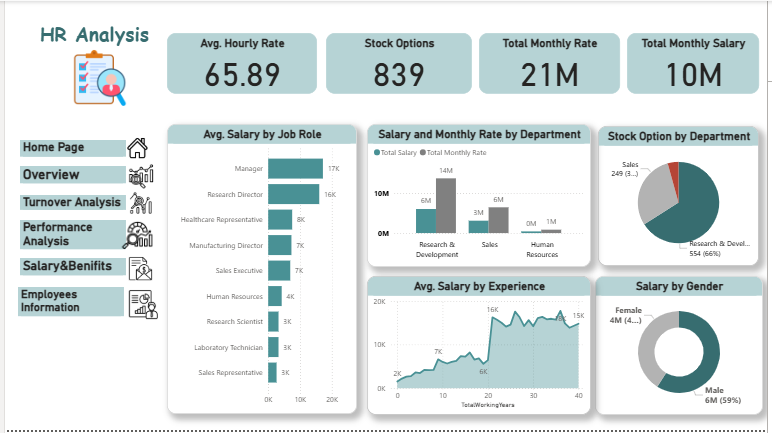

The page's visual inventory and layout, read from the dashboard file:
{"tool":"powerbi","page":{"name":"Salaries& Benifits","canvas":[1280,720],"ordinal":4},"visuals":[{"type":"card","title":"Total Monthly Rate","fields":{"Values":["Sum(Project-DEPI.MonthlyRate)"]},"box":[796.2,53.8,236.9,102.5],"z":0},{"type":"textbox","title":"Home Page","box":[25.2,233.5,178.1,28.6],"z":0,"group":"g1"},{"type":"image","box":[199.9,480.4,65.5,58.8],"z":0,"group":"g2"},{"type":"card","title":"Total Monthly Salary","fields":{"Values":["Sum(Project-DEPI.MonthlyIncome)"]},"box":[1044.8,53.8,221.7,102.5],"z":1000},{"type":"group","id":"g1","title":"Group 1","box":[21.8,225.1,250.3,307.4],"z":1000,"group":"g2"},{"type":"textbox","title":"Overview","box":[25.2,277.2,178.1,28.6],"z":1000,"group":"g1"},{"type":"clusteredColumnChart","title":"Salary and Monthly Rate by Department","fields":{"Category":["Project-DEPI.Department"],"Y":["Sum(Project-DEPI.MonthlyIncome)","Sum(Project-DEPI.MonthlyRate)"]},"box":[608.1,206.6,376.3,240.2],"z":2000},{"type":"textbox","title":"Turnover Analysis","box":[25.2,325.9,178.1,25.2],"z":2000,"group":"g1"},{"type":"card","title":"Avg. Hourly Rate","fields":{"Values":["Avg(Project-DEPI.HourlyRate)"]},"box":[272.1,53.8,252,102.5],"z":3000},{"type":"textbox","title":"Performance Analysis","box":[25.2,367.9,178.1,48.7],"z":3000,"group":"g1"},{"type":"pieChart","title":" Stock Option by Department","fields":{"Category":["Project-DEPI.Department"],"Y":["CountNonNull(Project-DEPI.StockOptionLevel)"]},"box":[996.1,210,270.4,235.2],"z":4000},{"type":"textbox","title":"Salary&Benifits","box":[25.2,431.7,178.1,30.2],"z":4000,"group":"g1"},{"type":"card","title":"Stock Options","fields":{"Values":["CountNonNull(Project-DEPI.StockOptionLevel)"]},"box":[539.2,53.8,245.2,102.5],"z":5000},{"type":"textbox","title":"Employees Information","box":[21.8,480.4,178.1,52.1],"z":5000,"group":"g1"},{"type":"textbox","title":"HR Analysis","box":[28.6,31.9,243.6,53.8],"z":6000,"group":"g3"},{"type":"clusteredBarChart","title":"Avg. Salary by Job Role","fields":{"Category":["Project-DEPI.JobRole"],"Y":["Avg(Project-DEPI.MonthlyIncome)"]},"box":[272.1,206.6,319.2,487.1],"z":6000},{"type":"image","box":[186.4,225.1,72.2,43.7],"z":6000,"group":"g1"},{"type":"image","box":[70.5,77.4,178.1,104.1],"z":7000,"group":"g3"},{"type":"image","box":[184.7,268.8,87.3,52.1],"z":7000,"group":"g1"},{"type":"donutChart","title":" Salary by Gender","fields":{"Category":["Project-DEPI.Gender"],"Y":["Sum(Project-DEPI.MonthlyIncome)"]},"box":[991.1,461.9,282.2,233.5],"z":7000},{"type":"group","id":"g2","title":"Group 2","box":[21.8,225.1,250.3,314.1],"z":8000},{"type":"image","box":[194.8,315.8,67.2,47],"z":8000,"group":"g1"},{"type":"group","id":"g3","title":"Group 3","box":[28.6,31.9,243.6,149.5],"z":9000},{"type":"image","box":[183.1,362.8,79,62.2],"z":9000,"group":"g1"},{"type":"image","box":[183.1,425,89,48.7],"z":10000,"group":"g1"},{"type":"areaChart","title":"Avg. Salary by Experience","fields":{"Category":["Project-DEPI.TotalWorkingYears"],"Y":["Avg(Project-DEPI.MonthlyIncome)"]},"box":[608.1,461.9,376.3,233.5],"z":10000}]}

Visuals, with their boxes in screenshot pixels (x1, y1, x2, y2), scaled from the page's 1280x720 canvas onto the 772x433 screenshot:
"Total Monthly Rate" card: select_region(480, 32, 623, 94)
"Home Page" textbox: select_region(15, 140, 123, 158)
image: select_region(121, 289, 160, 324)
"Total Monthly Salary" card: select_region(630, 32, 764, 94)
"Group 1" group: select_region(13, 135, 164, 320)
"Overview" textbox: select_region(15, 167, 123, 184)
"Salary and Monthly Rate by Department" clusteredColumnChart: select_region(367, 124, 594, 269)
"Turnover Analysis" textbox: select_region(15, 196, 123, 211)
"Avg. Hourly Rate" card: select_region(164, 32, 316, 94)
"Performance Analysis" textbox: select_region(15, 221, 123, 251)
" Stock Option by Department" pieChart: select_region(601, 126, 764, 268)
"Salary&Benifits" textbox: select_region(15, 260, 123, 278)
"Stock Options" card: select_region(325, 32, 473, 94)
"Employees Information" textbox: select_region(13, 289, 121, 320)
"HR Analysis" textbox: select_region(17, 19, 164, 52)
"Avg. Salary by Job Role" clusteredBarChart: select_region(164, 124, 357, 417)
image: select_region(112, 135, 156, 162)
image: select_region(43, 47, 150, 109)
image: select_region(111, 162, 164, 193)
" Salary by Gender" donutChart: select_region(598, 278, 768, 418)
"Group 2" group: select_region(13, 135, 164, 324)
image: select_region(117, 190, 158, 218)
"Group 3" group: select_region(17, 19, 164, 109)
image: select_region(110, 218, 158, 256)
image: select_region(110, 256, 164, 285)
"Avg. Salary by Experience" areaChart: select_region(367, 278, 594, 418)
